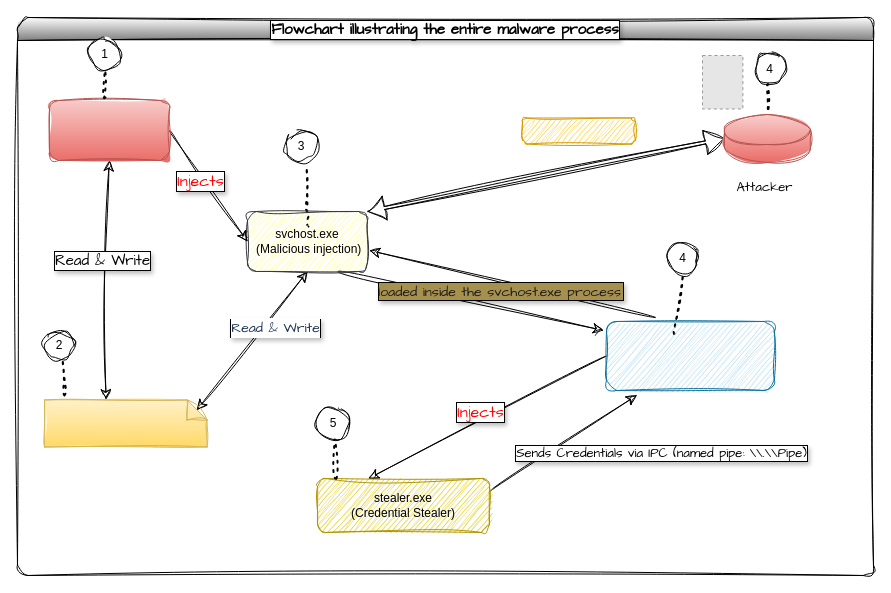
Image size: 891x593. Some labels were removed from this diagram. Grey dashed boxes stand in for pictures. Here are the shapes that lost their labels. From the top down, the centre of each, then its label:
[109,130]: msedge_proxy.exe (Malicious Dropper)
[579,130]: TCP Connection
[767,138]: C2 Server
[690,355]: msedge_proxy.dll (Malicious plugin DLL)
[125,423]: index.dat (Configuration File)
